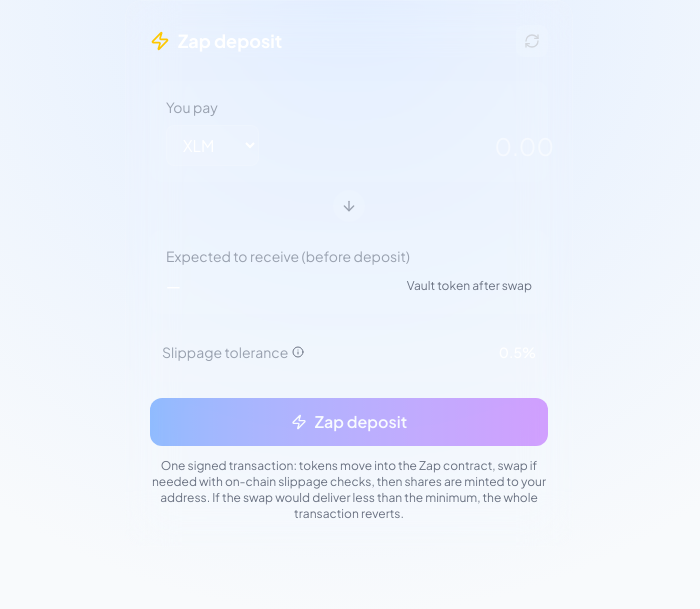
Test: ZapDepositPanel › slippage adjustment › allows opening slippage editor
Click the 2nd button: coordinates (298, 352) [292,346,304,358]
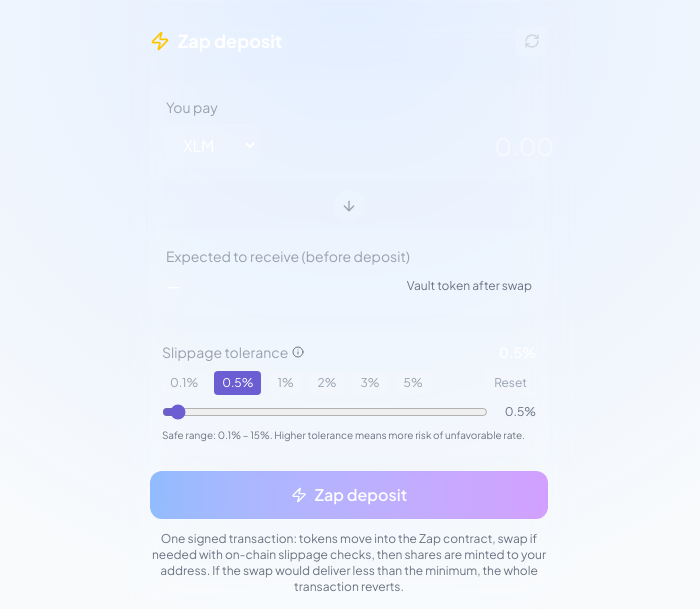
Expected: the text "Safe range" is shown, [162,429,218,441]
